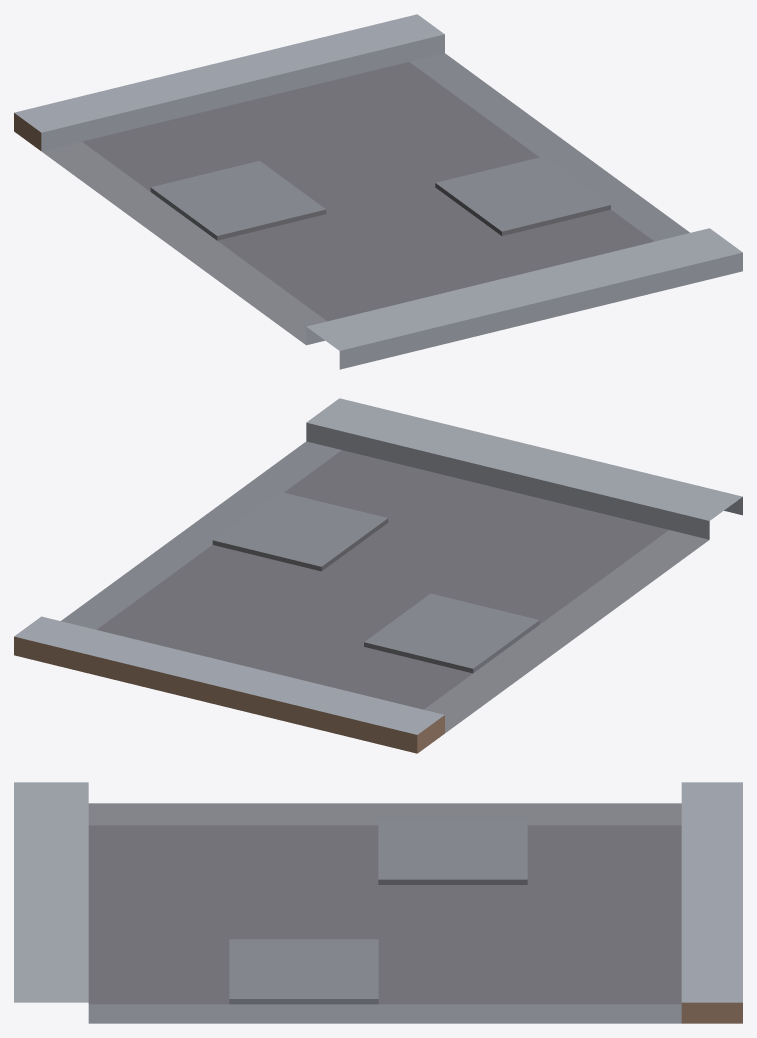
Rendered from FrontofRoom.fbx.
3 views of the same model, one above another, from view 1: azimuth 30°, elevation 25°; view 2: azimuth 150°, elevation 25°; view 3: azimuth 270°, elevation 25° (orthographic). The views are drawn at different scales.
Visible parts, largest first — view 1: FrontofRoom; view 2: FrontofRoom; view 3: FrontofRoom.
Boxes of the visible parts, bbox=[...] form: FrontofRoom: bbox=[14, 14, 742, 369]; FrontofRoom: bbox=[14, 398, 742, 753]; FrontofRoom: bbox=[14, 782, 742, 1023].
Bounding box in the file's own units: 197 × 8.75 × 275.
